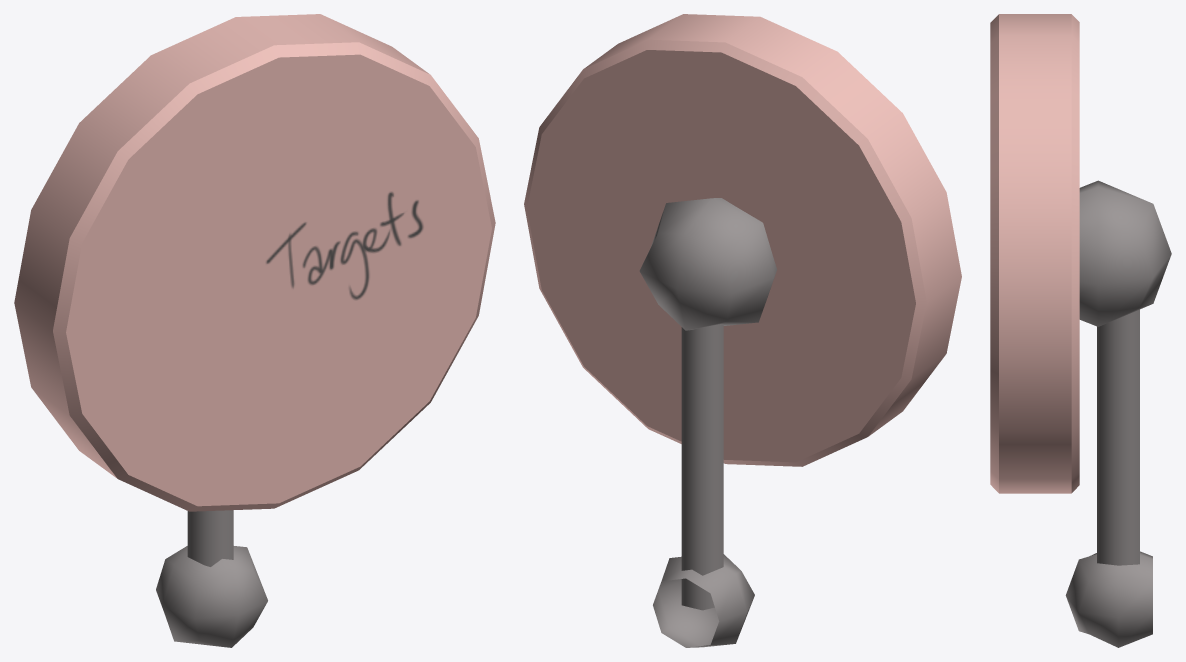
File: SM_Target.fbx
The picture shows the model from 3 angles, left to right: view 1: azimuth 30°, elevation 25°; view 2: azimuth 150°, elevation 25°; view 3: azimuth 270°, elevation 25°; orthographic projection. The views are drawn at different scales.
Parts seen in each view (by area): view 1: SM_Target, SM_TargetJoint_02, SM_TargetPole; view 2: SM_Target, SM_TargetJoint_01, SM_TargetPole, SM_TargetJoint_02; view 3: SM_Target, SM_TargetPole, SM_TargetJoint_01, SM_TargetJoint_02.
Part boxes in pixels (box(x1,y1,x2,y2)): SM_Target: box(14, 14, 495, 511); SM_TargetJoint_02: box(156, 546, 267, 647); SM_TargetPole: box(187, 510, 233, 566); SM_Target: box(524, 14, 961, 466); SM_TargetJoint_01: box(639, 198, 776, 330); SM_TargetPole: box(681, 324, 723, 610); SM_TargetJoint_02: box(653, 554, 754, 647); SM_Target: box(990, 14, 1079, 493); SM_TargetPole: box(1097, 309, 1139, 565); SM_TargetJoint_01: box(1079, 180, 1171, 326); SM_TargetJoint_02: box(1065, 551, 1152, 647).
Bounding box in the file's own units: 32.66 × 45.56 × 12.36.
